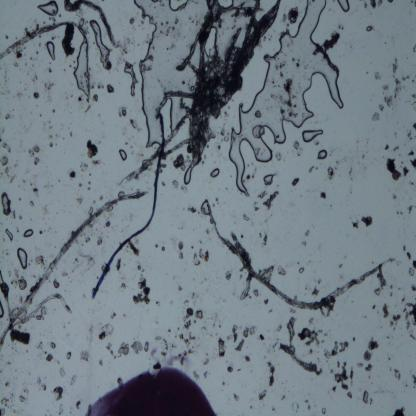Air bubble: (228, 1, 342, 195), (134, 0, 200, 150), (89, 18, 111, 70), (74, 36, 91, 103), (122, 62, 138, 96), (36, 1, 59, 16), (302, 128, 324, 143), (16, 248, 30, 271), (1, 192, 11, 218), (199, 200, 211, 218), (46, 40, 56, 61), (183, 165, 194, 184), (338, 0, 352, 13), (316, 148, 328, 162), (263, 173, 275, 186), (119, 148, 128, 162), (5, 228, 14, 242), (22, 227, 32, 239), (210, 168, 221, 178), (0, 300, 5, 320), (366, 25, 373, 32)
Background material: (328, 361, 350, 392), (283, 77, 299, 119), (131, 277, 151, 305), (324, 339, 348, 360), (298, 327, 320, 348), (41, 78, 57, 106), (158, 18, 176, 40), (402, 302, 416, 330), (9, 330, 32, 346), (322, 32, 340, 52), (185, 329, 198, 356), (257, 264, 275, 283), (264, 189, 280, 210), (386, 159, 401, 181), (98, 321, 113, 343), (120, 35, 134, 56), (265, 362, 275, 389), (217, 122, 228, 146), (43, 132, 59, 148), (130, 339, 148, 353), (86, 138, 98, 158), (377, 270, 389, 290), (105, 341, 117, 361), (128, 240, 141, 258), (288, 7, 300, 26), (217, 335, 226, 360), (52, 385, 65, 401), (274, 60, 284, 80), (118, 340, 129, 358), (252, 124, 265, 139), (173, 155, 186, 170), (78, 348, 90, 364), (175, 241, 185, 260), (394, 77, 402, 99), (175, 352, 188, 365), (0, 139, 12, 153), (15, 88, 29, 100), (230, 228, 241, 243), (199, 247, 210, 262), (37, 376, 47, 392), (18, 276, 28, 292), (192, 252, 202, 268), (182, 307, 194, 320), (257, 388, 268, 402), (362, 214, 373, 228), (363, 389, 372, 406), (146, 54, 154, 73), (235, 337, 245, 352), (383, 96, 395, 108), (13, 46, 24, 59), (368, 338, 379, 351), (300, 227, 310, 241), (35, 256, 45, 270), (382, 303, 390, 320), (295, 142, 304, 157), (326, 166, 335, 181), (389, 314, 401, 325), (410, 89, 416, 111), (0, 154, 11, 166), (393, 406, 406, 416), (277, 264, 287, 277), (252, 200, 262, 213), (391, 58, 399, 74), (347, 166, 355, 182), (161, 340, 169, 356), (273, 150, 282, 164), (231, 325, 238, 343), (371, 111, 381, 123), (30, 145, 40, 157), (307, 164, 319, 174), (262, 232, 270, 246), (242, 327, 250, 341), (290, 58, 301, 68), (29, 182, 40, 192), (118, 107, 128, 118), (129, 119, 139, 130), (106, 83, 116, 94), (69, 374, 78, 386), (115, 258, 122, 273), (394, 367, 401, 382), (58, 366, 66, 379), (351, 219, 359, 232), (372, 70, 382, 80), (1, 396, 9, 408), (180, 183, 188, 195), (224, 270, 232, 282), (258, 331, 266, 343), (363, 350, 371, 362), (69, 168, 77, 180), (202, 356, 210, 368), (292, 177, 300, 189), (182, 337, 190, 349), (400, 167, 409, 177), (335, 260, 344, 270), (127, 16, 136, 26), (90, 94, 100, 103), (80, 163, 88, 174), (406, 204, 414, 215), (187, 206, 198, 214), (195, 308, 203, 319), (192, 370, 200, 381), (252, 287, 260, 298), (388, 284, 394, 298), (409, 158, 416, 170), (410, 373, 416, 387), (406, 250, 413, 262), (320, 190, 327, 202), (171, 179, 180, 188), (5, 112, 14, 121), (350, 334, 358, 344), (312, 287, 320, 297), (38, 226, 46, 236), (259, 190, 267, 200), (356, 360, 364, 370), (365, 362, 373, 372), (53, 279, 60, 290), (374, 286, 381, 297), (233, 392, 240, 403), (58, 403, 64, 415), (183, 321, 191, 330), (298, 265, 306, 274), (46, 352, 53, 362), (19, 394, 26, 404), (226, 364, 233, 374), (202, 369, 209, 379), (346, 391, 353, 401), (245, 172, 252, 182), (408, 130, 414, 141), (76, 399, 82, 410), (244, 214, 250, 225), (392, 144, 400, 152), (378, 104, 386, 112), (408, 150, 416, 158), (244, 354, 252, 362), (77, 196, 85, 204), (104, 220, 112, 228), (370, 1, 377, 10), (84, 235, 91, 244), (0, 406, 6, 416), (66, 351, 72, 361), (4, 167, 10, 177), (408, 267, 414, 277), (410, 282, 416, 292), (121, 282, 127, 292), (256, 112, 263, 120), (382, 84, 389, 92), (409, 334, 416, 342), (377, 0, 383, 9), (97, 238, 103, 247), (98, 359, 104, 368), (9, 174, 15, 183), (110, 310, 115, 320), (411, 259, 416, 269), (98, 192, 104, 200), (76, 182, 84, 188), (34, 92, 40, 100), (384, 143, 390, 151), (363, 2, 369, 10), (412, 42, 416, 54), (372, 304, 378, 312), (50, 342, 56, 350), (264, 297, 270, 305), (402, 245, 408, 253), (34, 157, 40, 165), (47, 67, 54, 73), (29, 200, 34, 208), (136, 264, 141, 272), (321, 406, 326, 414), (178, 285, 184, 291), (161, 245, 166, 252), (154, 244, 160, 249), (413, 122, 416, 131), (386, 0, 394, 3), (177, 334, 183, 338)
Cellulose filter fibre: (0, 188, 146, 343), (204, 206, 394, 308), (177, 1, 284, 157), (118, 113, 192, 186), (0, 21, 84, 63), (65, 1, 121, 52), (12, 290, 76, 328), (280, 320, 322, 376)
Cotton: (91, 112, 167, 301)
Pen: (84, 368, 216, 416)
